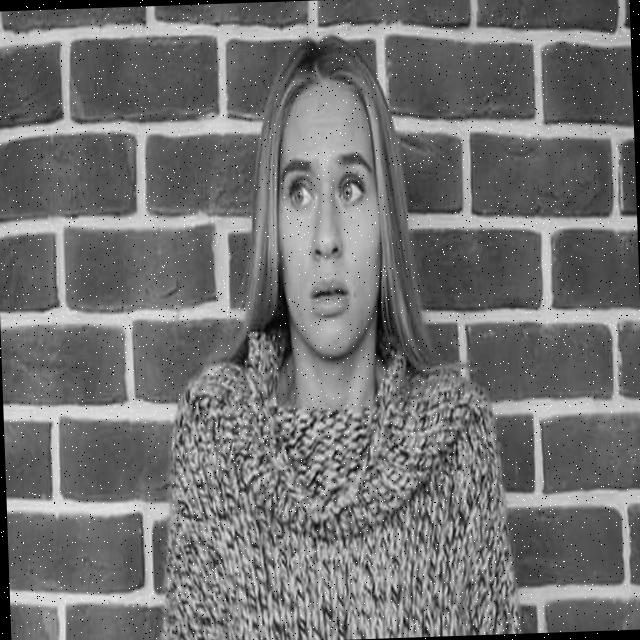Fear: (270, 80, 381, 358)
